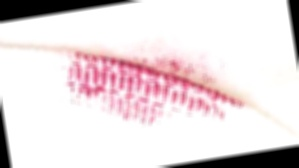lipstick: (59, 22, 247, 143)
